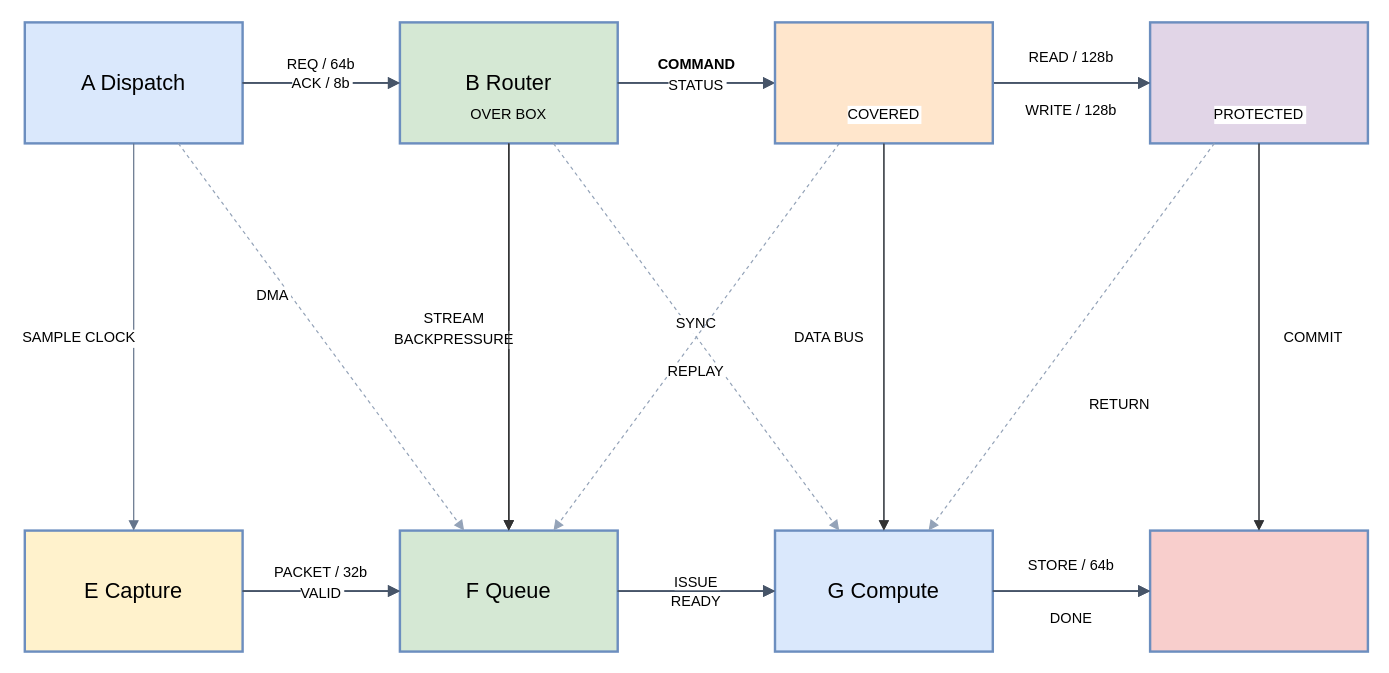
This 1389x673 diagram has some shape labels left out. Here are the shapes that lost their labels. From the top down, the centre of each, then its label:
point 883,82: C Scheduler
point 1258,82: D Memory
point 1258,590: H Storage
